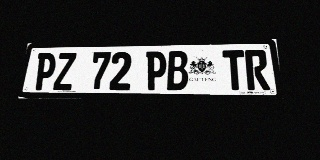2: (109, 52, 132, 90)
7: (88, 52, 111, 90)
B: (167, 51, 188, 90)
P: (33, 53, 57, 90), (145, 51, 166, 90)
R: (244, 50, 270, 90)
T: (222, 50, 247, 90)
Z: (53, 53, 77, 90)
